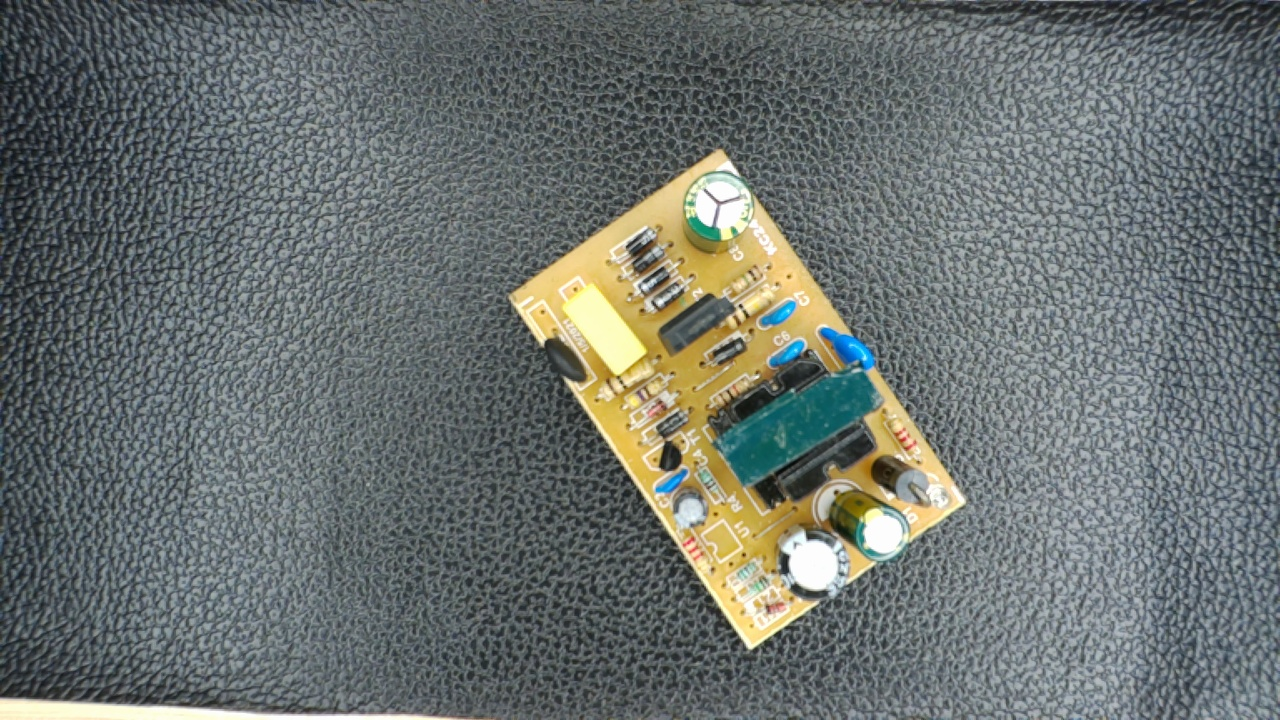fuse: (530, 323, 596, 390)
hv_capacitor: (677, 170, 764, 257)
mov: (813, 321, 879, 375)
